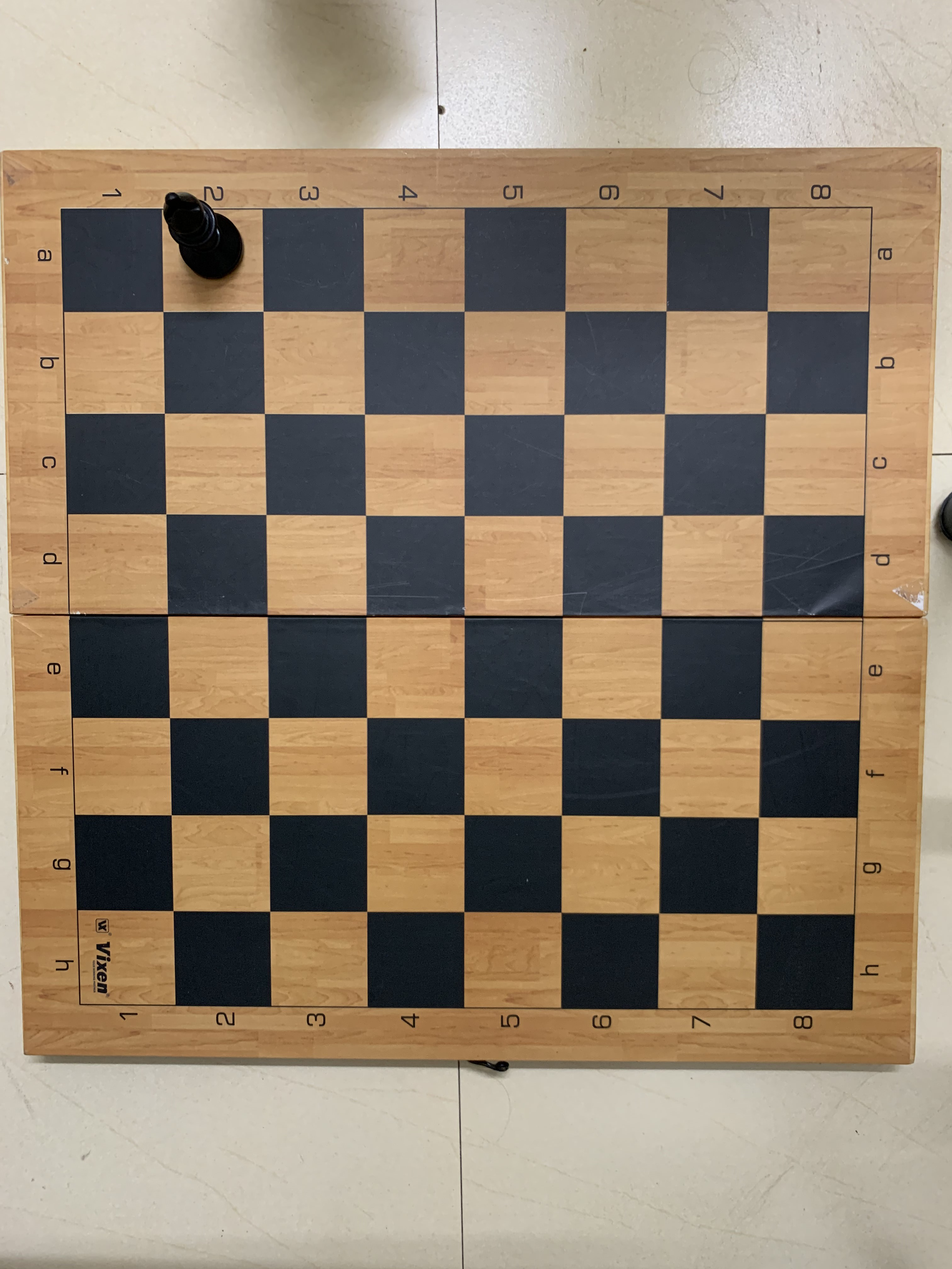black_bishop: (147, 181, 261, 307)
